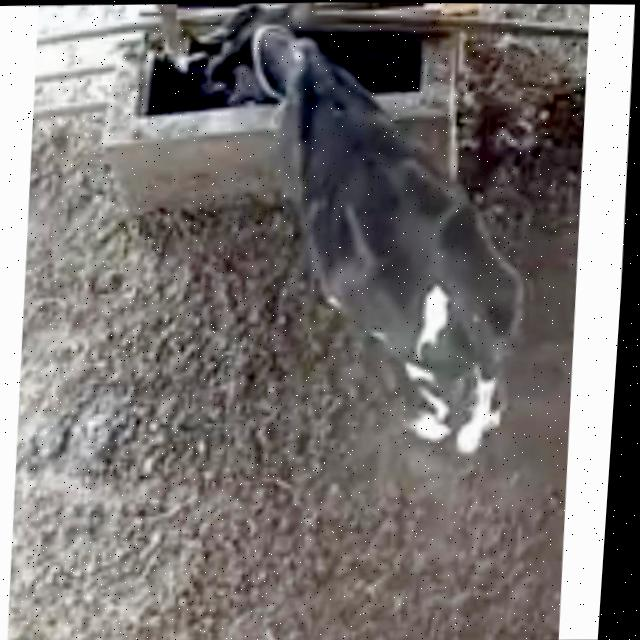drink: (156, 1, 358, 141)
